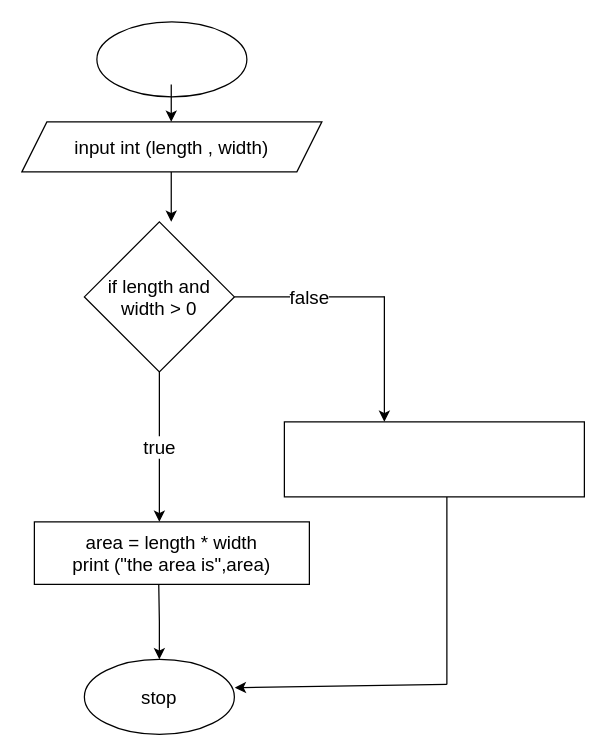
Some shapes in this 606 by 756 pixel diagram are drawn without their labels. The shapes that lost their labels are listed below. From the top down, each one's centre as x and y in pixels, then its label:
pixel 171 59: start
pixel 433 459: print ("un valid numbers")
